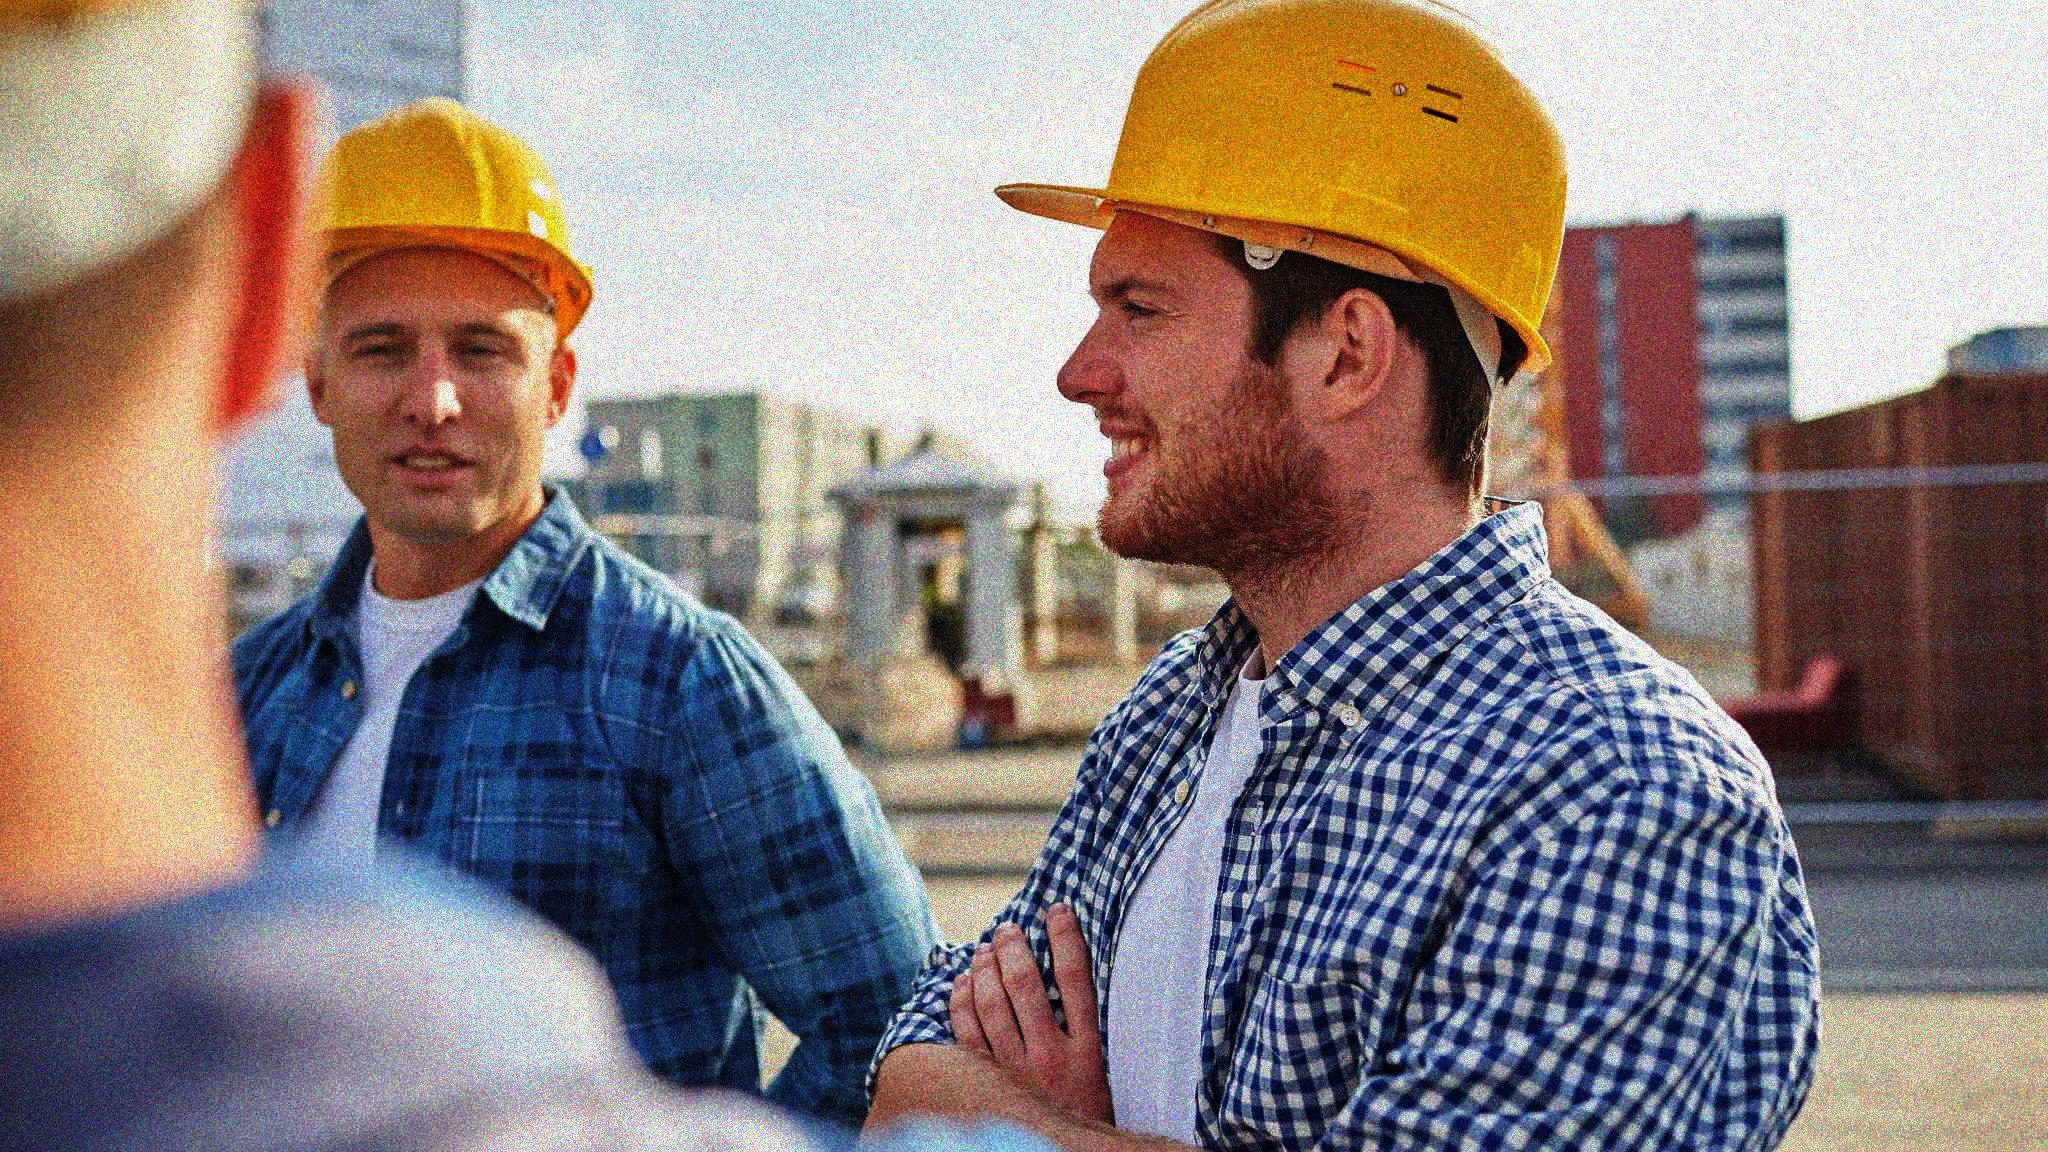helmet: (978, 1, 1573, 570), (1, 1, 316, 470), (287, 94, 592, 542)
